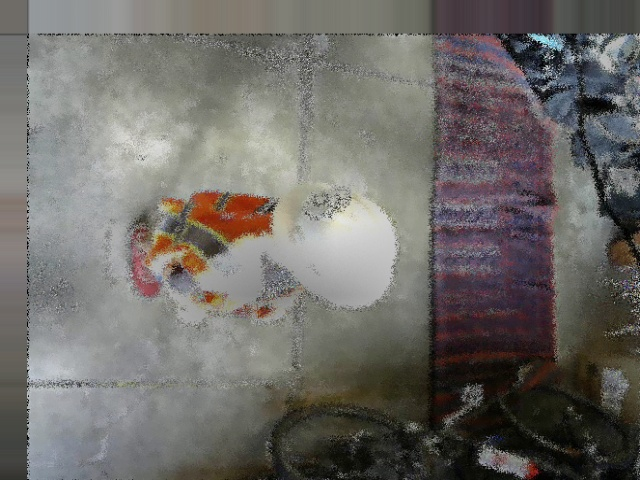eight: (303, 185, 352, 220)
